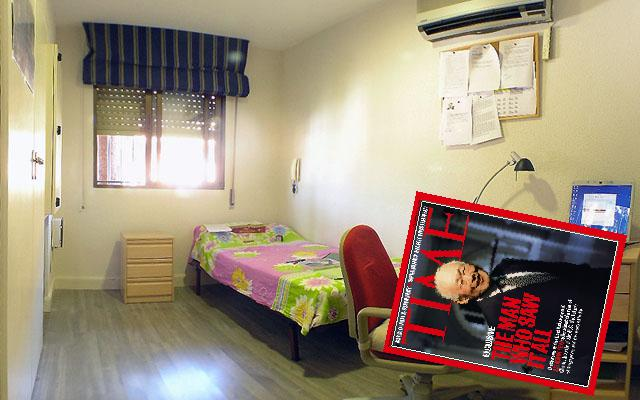times: (380, 190, 628, 397)
